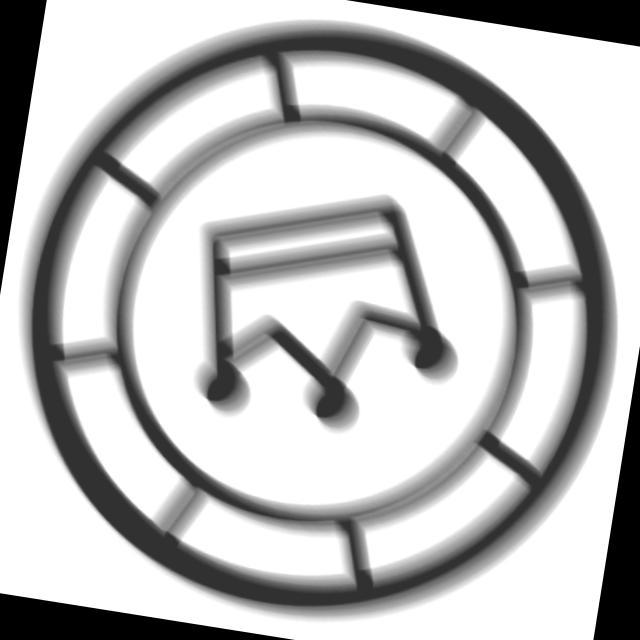coin: (1, 1, 640, 640)
